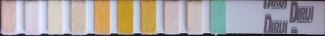color 1: (2, 2, 14, 32)
color 10: (212, 2, 224, 31)
color 2: (25, 2, 38, 33)
color 3: (49, 2, 61, 31)
color 4: (72, 2, 84, 32)
color 5: (96, 2, 108, 32)
color 6: (119, 2, 132, 32)
color 7: (142, 2, 154, 31)
color 8: (165, 3, 177, 32)
color 9: (189, 3, 200, 32)
